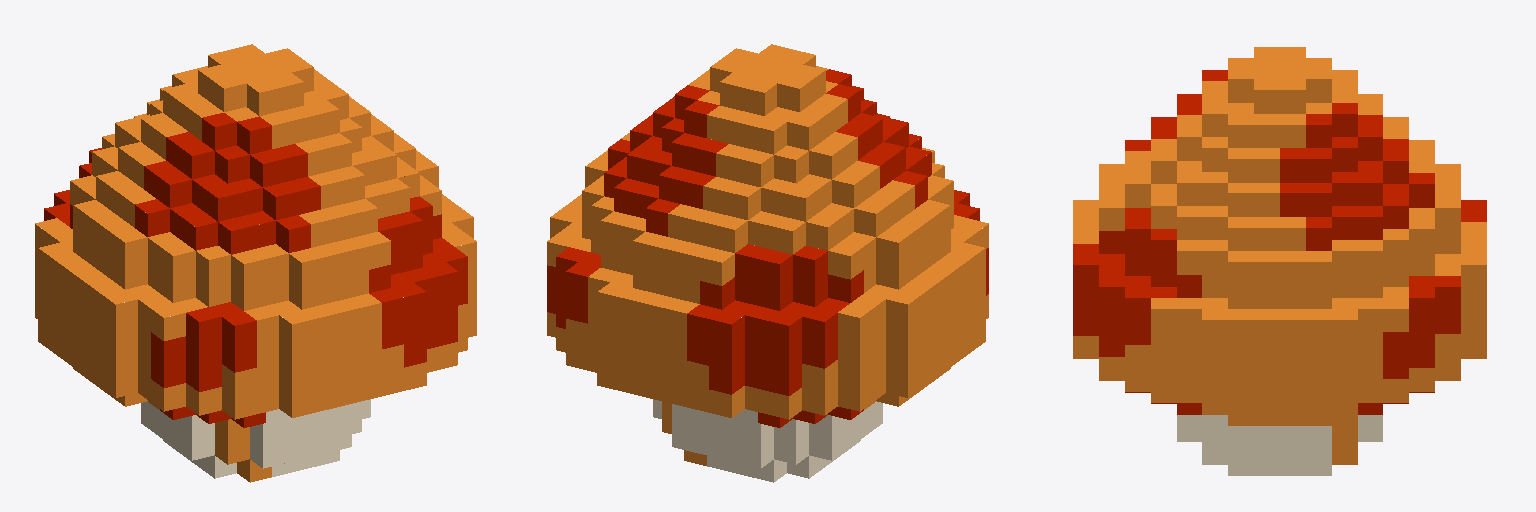
The picture shows the model from 3 angles: view 1: azimuth 30°, elevation 25°; view 2: azimuth 150°, elevation 25°; view 3: azimuth 270°, elevation 25°; orthographic projection.
Visible parts, largest first — view 1: Würfel; view 2: Würfel; view 3: Würfel.
Boxes of the visible parts, box(x1,y1,x2,y2) form: Würfel: box(35, 44, 476, 482); Würfel: box(547, 44, 988, 482); Würfel: box(1073, 47, 1486, 475).
Size of the model in its own units: 160 by 160 by 160.
1 materials, 1 textured.